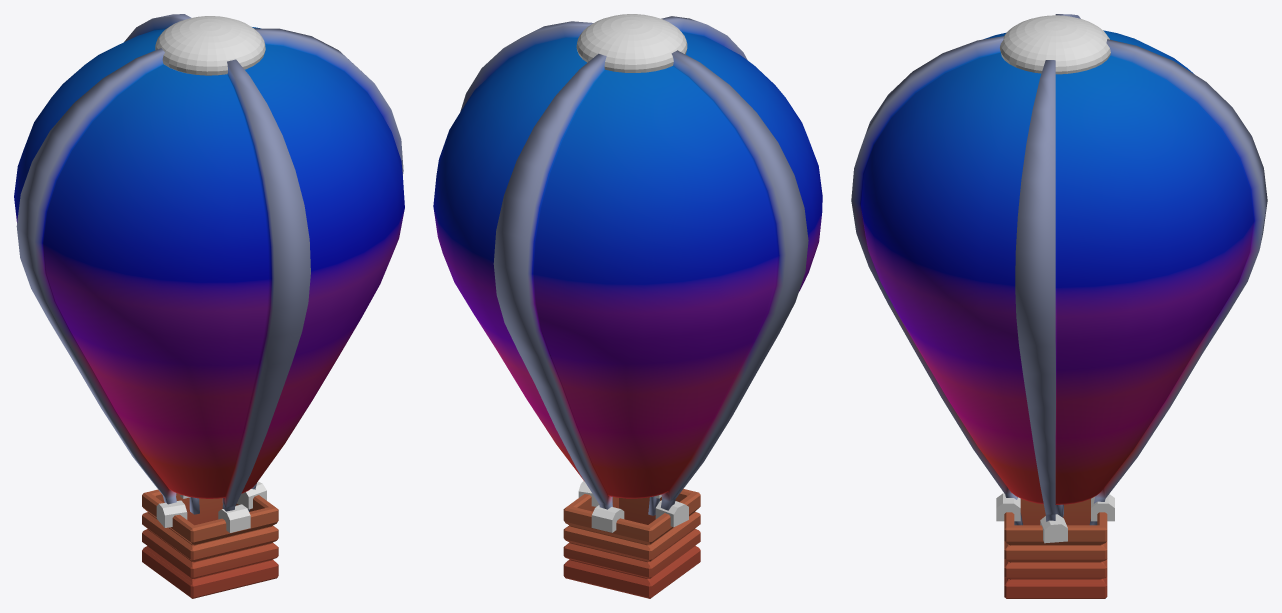
Rendered from воздушный шар .fbx.
3 renders of one model, left to right at view 1: azimuth 30°, elevation 25°; view 2: azimuth 150°, elevation 25°; view 3: azimuth 270°, elevation 25°, orthographic.
Visible parts, largest first — view 1: Sphere, Cube.056, Sphere.001, Cube.058, Cube.057; view 2: Sphere, Cube.056, Sphere.001, Cube.058, Cube.057; view 3: Sphere, Cube.056, Sphere.001, Cube.057, Cube.058.
Boxes of the visible parts, box(x1,y1,x2,y2) form: Sphere: box(14, 14, 404, 514); Cube.056: box(142, 489, 278, 598); Sphere.001: box(155, 16, 265, 75); Cube.058: box(156, 481, 266, 527); Cube.057: box(180, 494, 250, 532); Sphere: box(433, 16, 822, 515); Cube.056: box(563, 489, 700, 598); Sphere.001: box(576, 14, 687, 72); Cube.058: box(578, 481, 688, 527); Cube.057: box(591, 494, 661, 532); Sphere: box(851, 14, 1267, 525); Cube.056: box(1004, 499, 1107, 598); Sphere.001: box(1000, 15, 1110, 74); Cube.057: box(996, 493, 1114, 521); Cube.058: box(1040, 514, 1067, 543).
Size of the model in its own units: 387 by 571 by 390.
